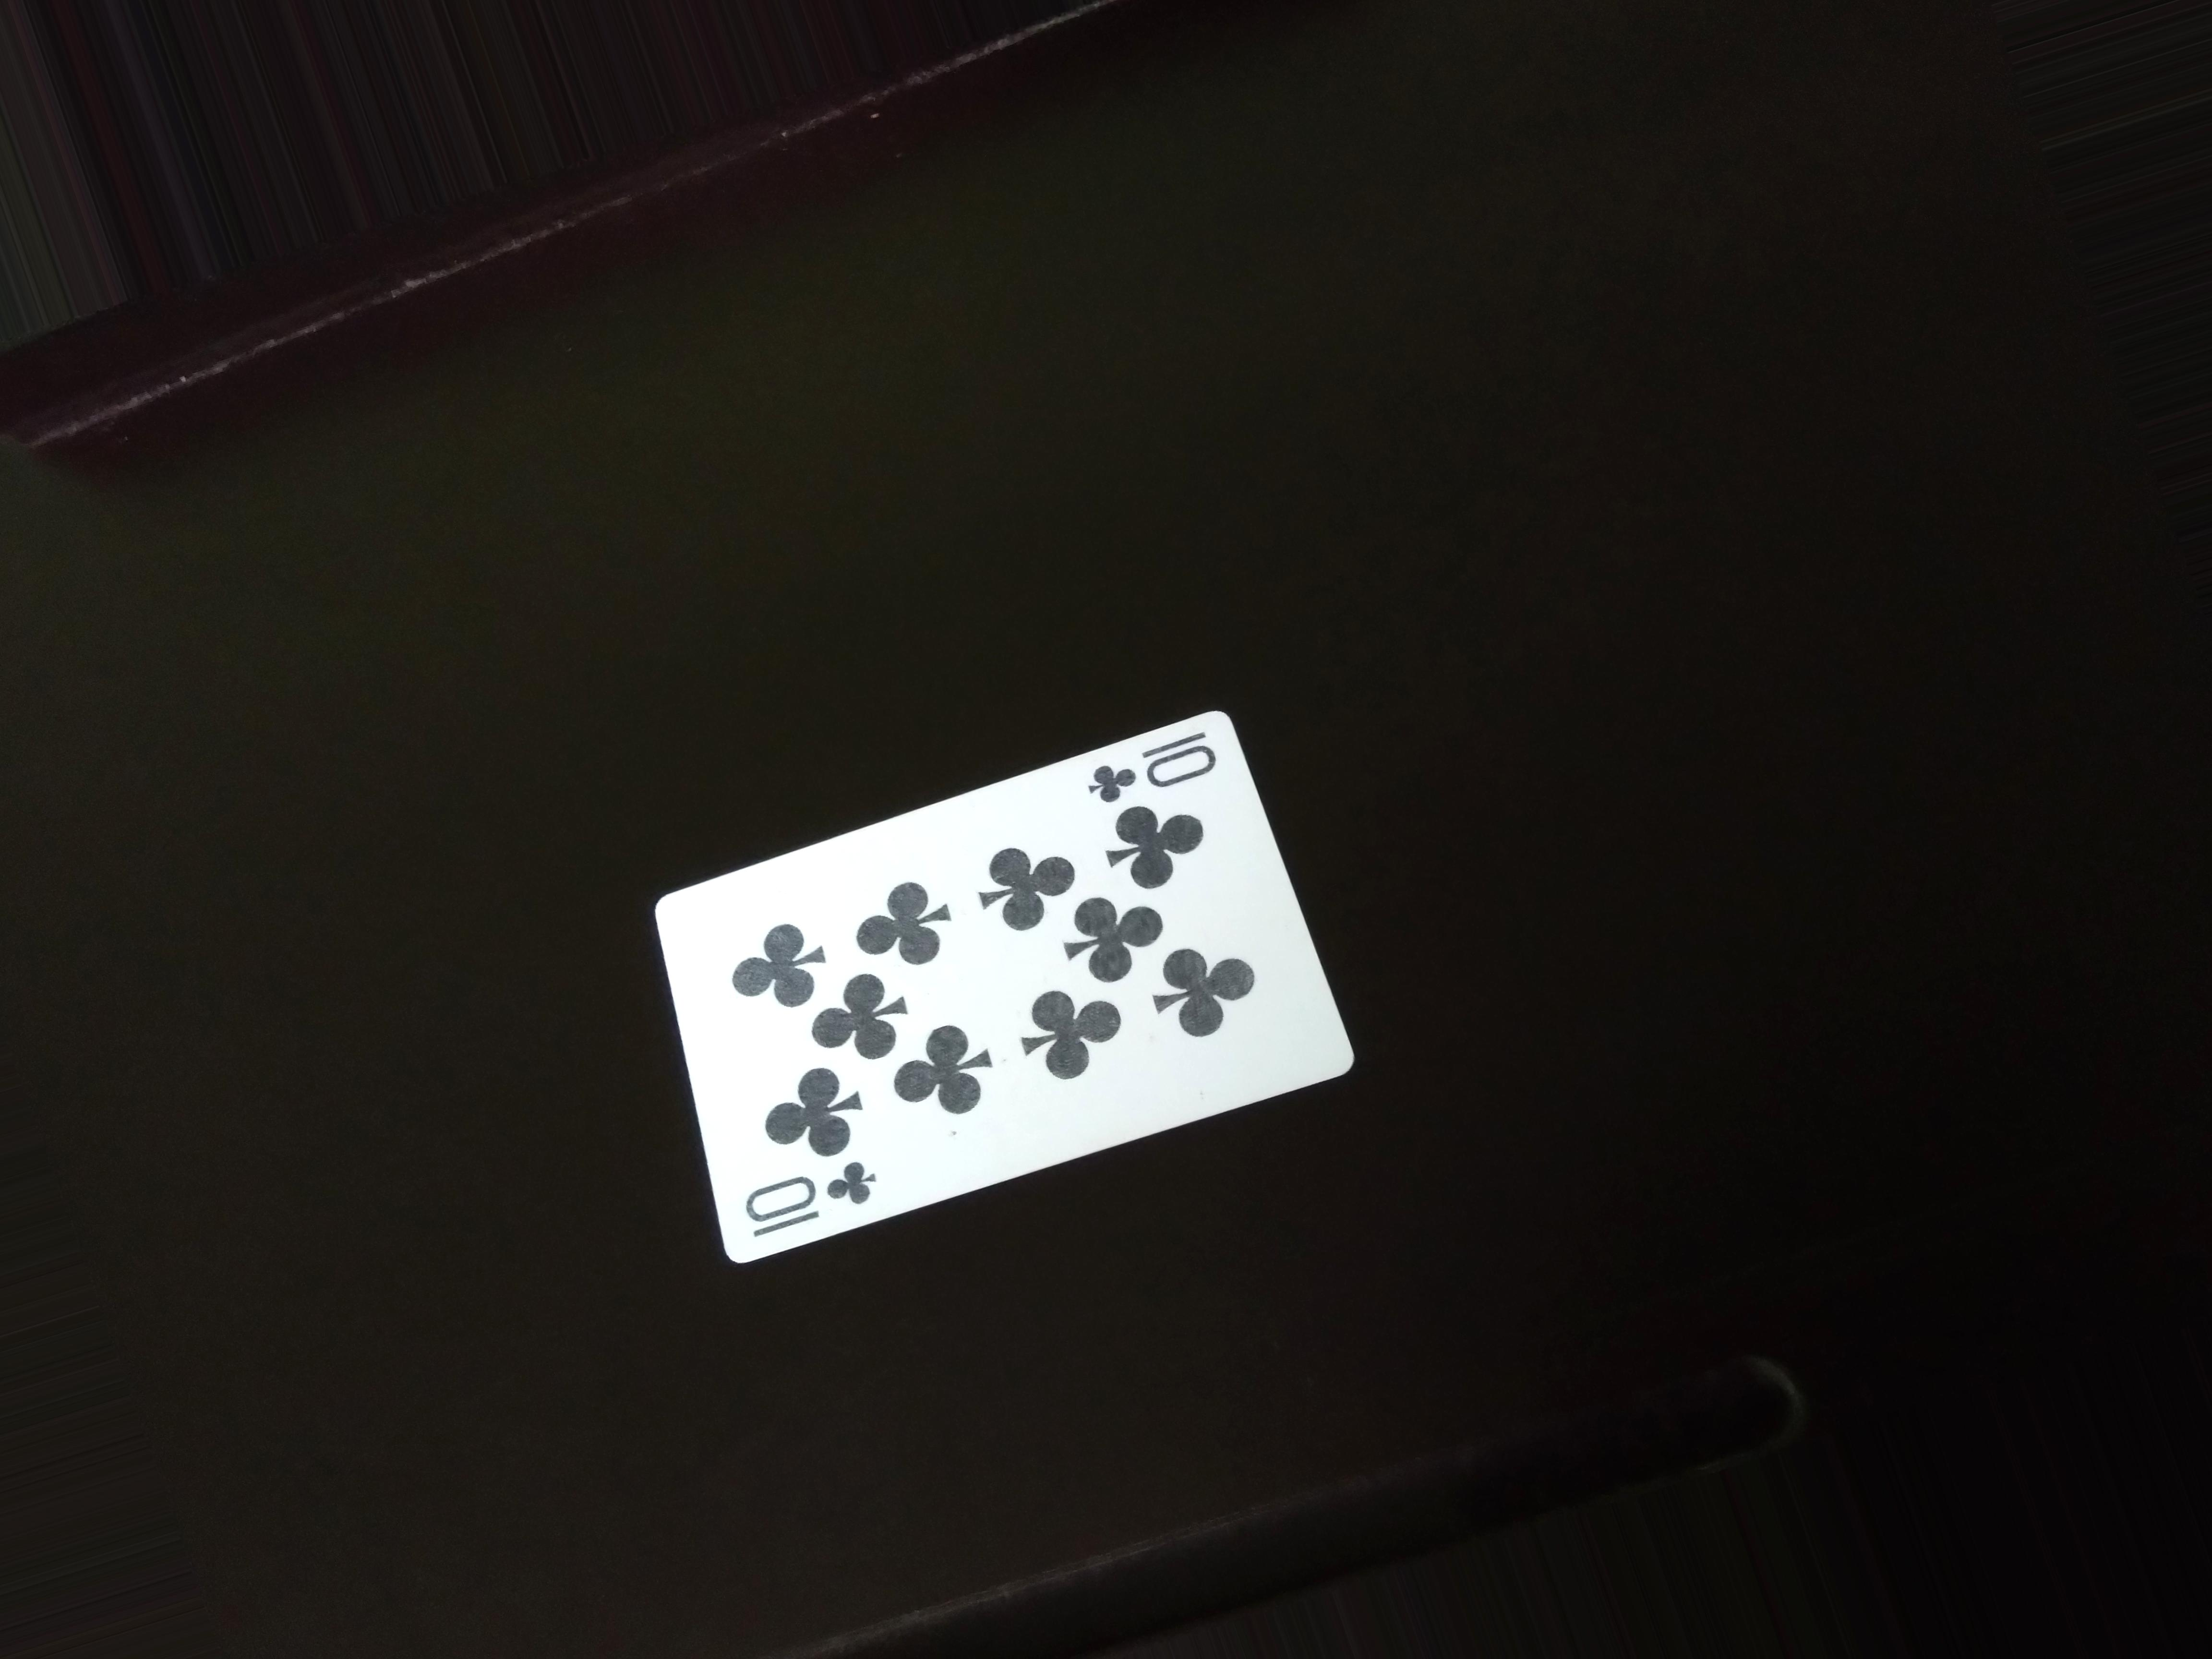10C: (716, 1162, 902, 1246)
